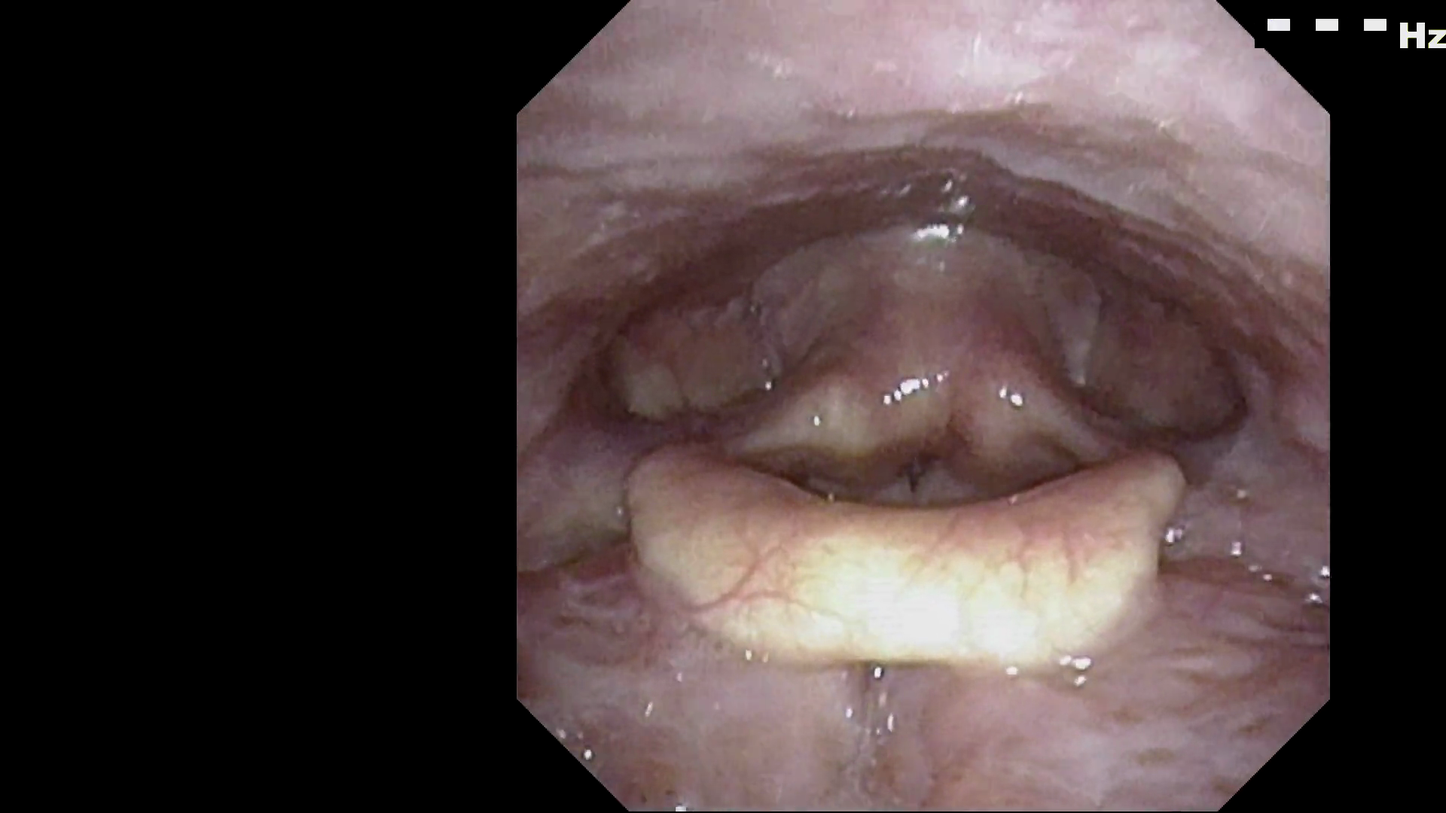epiglottis: (600, 420, 1230, 703)
trachea: (862, 396, 977, 536)
